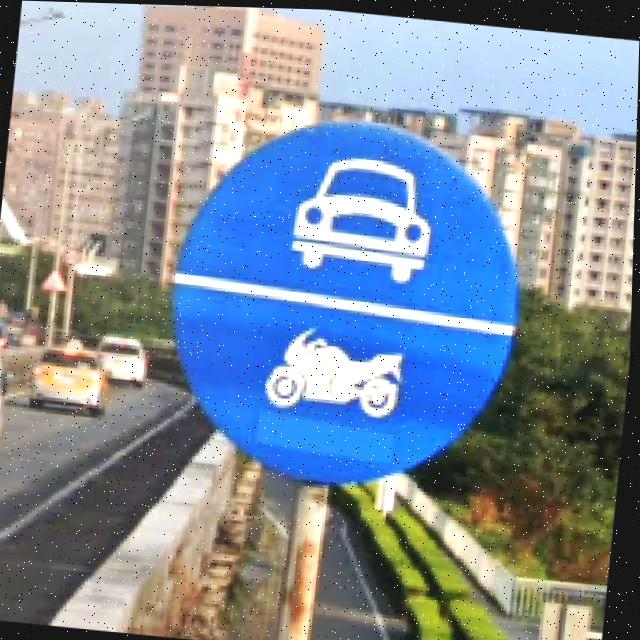carmotorcycle: (177, 122, 517, 480)
